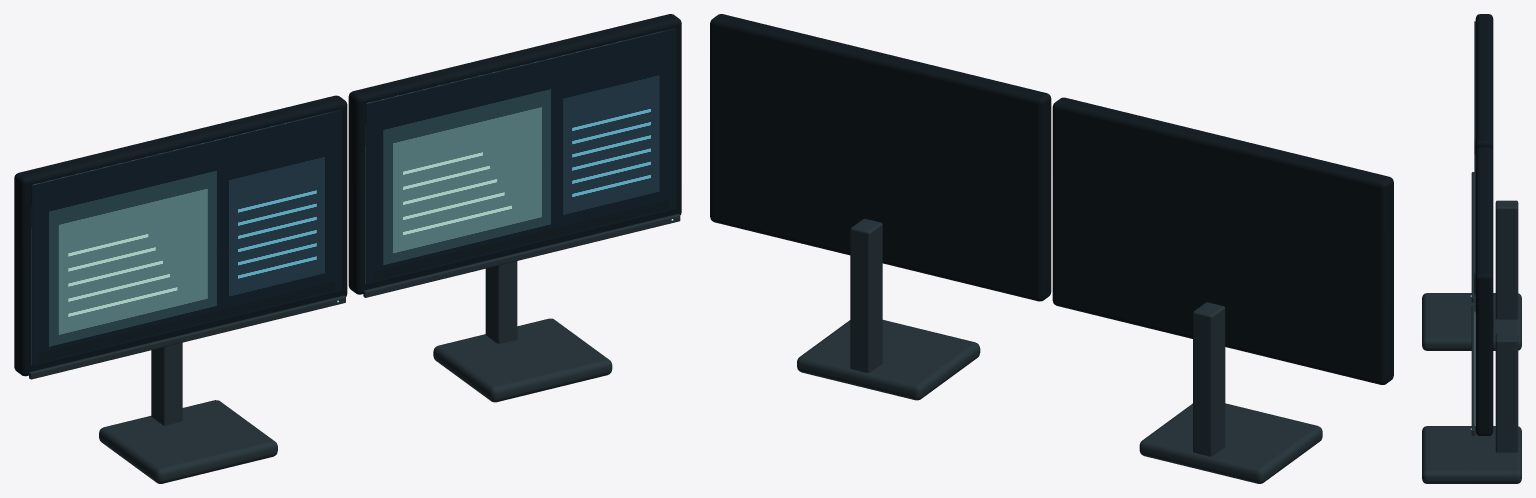
File: dual_monitor.glb
3 views of the same model, side by side, from view 1: azimuth 30°, elevation 25°; view 2: azimuth 150°, elevation 25°; view 3: azimuth 270°, elevation 25° (orthographic). The views are drawn at different scales.
Parts seen in each view (by area): view 1: dual_monitor_Mesh; view 2: dual_monitor_Mesh; view 3: dual_monitor_Mesh.
Boxes of the visible parts, <box> form: dual_monitor_Mesh: <box>14,14,681,483</box>; dual_monitor_Mesh: <box>710,14,1393,483</box>; dual_monitor_Mesh: <box>1422,14,1521,483</box>.
Bounding box in the file's own units: 1.25 × 0.554 × 0.2.
4 materials, 1 textured.
